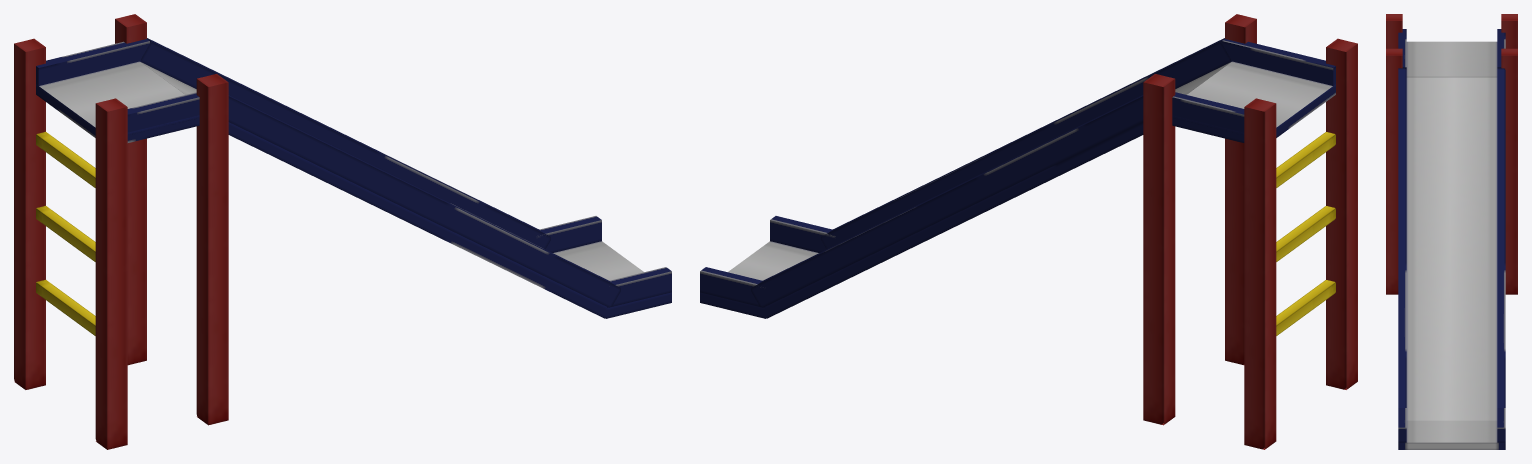
The model's file is park_swing_b.obj.
The picture shows the model from 3 angles, left to right: view 1: azimuth 30°, elevation 25°; view 2: azimuth 150°, elevation 25°; view 3: azimuth 270°, elevation 25°; orthographic projection. The views are drawn at different scales.
Parts seen in each view (by area): view 1: post1, post3, Slide2A, post2, Slide2B, Slide, Slide2, post4, SlideA, SlideEnd, SlideB, SlideEndB (+4 smaller); view 2: post2, post4, Slide2B, post1, Slide2A, Slide, Slide2, post3, SlideB, SlideEnd, SlideA, SlideEndA (+4 smaller); view 3: Slide2, Slide, post3, post4, Slide2A, Slide2B, SlideEnd, post1, post2, SlideEndA, SlideEndB, SlideA (+1 smaller).
Boxes of the visible parts, box(x1,y1,x2,y2) form: post1: box(95, 98, 127, 449); post3: box(196, 74, 228, 425); Slide2A: box(228, 95, 620, 307); post2: box(14, 38, 45, 389); Slide2B: box(141, 38, 550, 249); Slide: box(36, 61, 199, 142); Slide2: box(141, 62, 610, 318); post4: box(115, 14, 146, 365); SlideA: box(36, 39, 149, 88); SlideEnd: box(553, 241, 671, 318); SlideB: box(127, 92, 199, 134); SlideEndB: box(536, 216, 601, 252); post2: box(1244, 98, 1276, 449); post4: box(1143, 74, 1175, 425); Slide2B: box(751, 95, 1143, 307); post1: box(1326, 38, 1357, 389); Slide2A: box(821, 38, 1230, 249); Slide: box(1172, 61, 1335, 142); Slide2: box(761, 62, 1230, 318); post3: box(1225, 14, 1256, 365); SlideB: box(1222, 39, 1335, 85); SlideEnd: box(700, 241, 818, 318); SlideA: box(1172, 92, 1244, 134); SlideEndA: box(770, 216, 835, 252); Slide2: box(1406, 76, 1497, 420); Slide: box(1406, 41, 1497, 76); post3: box(1386, 48, 1402, 294); post4: box(1501, 48, 1517, 294); Slide2A: box(1398, 68, 1406, 407); Slide2B: box(1497, 68, 1505, 407); SlideEnd: box(1398, 420, 1505, 449); post1: box(1386, 14, 1402, 48); post2: box(1501, 14, 1517, 48); SlideEndA: box(1398, 408, 1406, 442); SlideEndB: box(1497, 408, 1505, 442); SlideA: box(1497, 29, 1505, 68).
Size of the model in its own units: 3.55 by 2 by 1.
